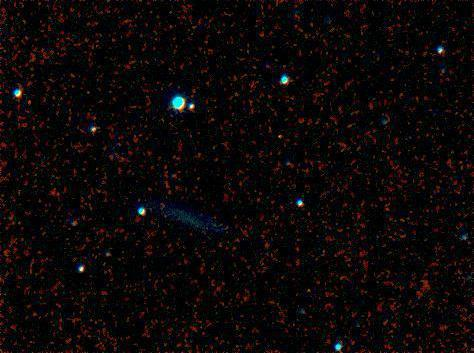star: (268, 115, 298, 145)
